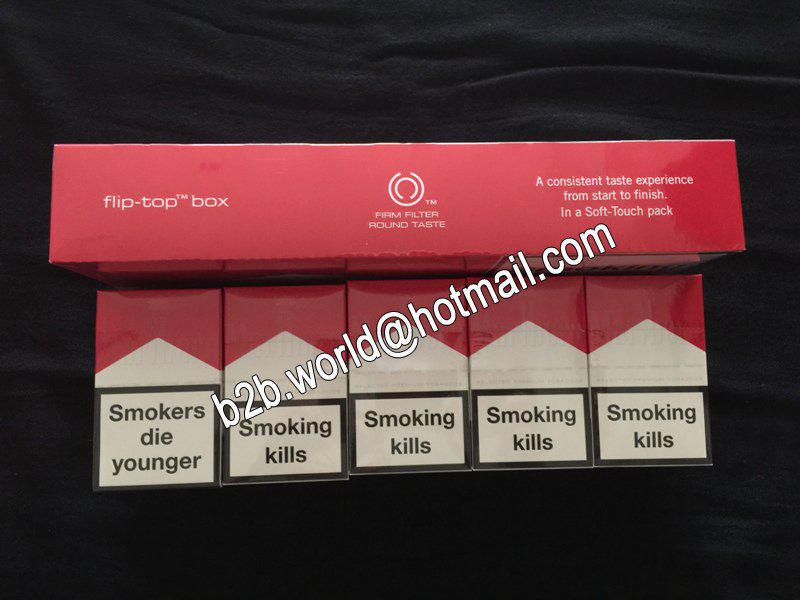marlboro_red: (219, 287, 341, 481), (98, 291, 215, 486), (349, 284, 467, 471), (472, 277, 582, 472), (594, 274, 702, 466)
